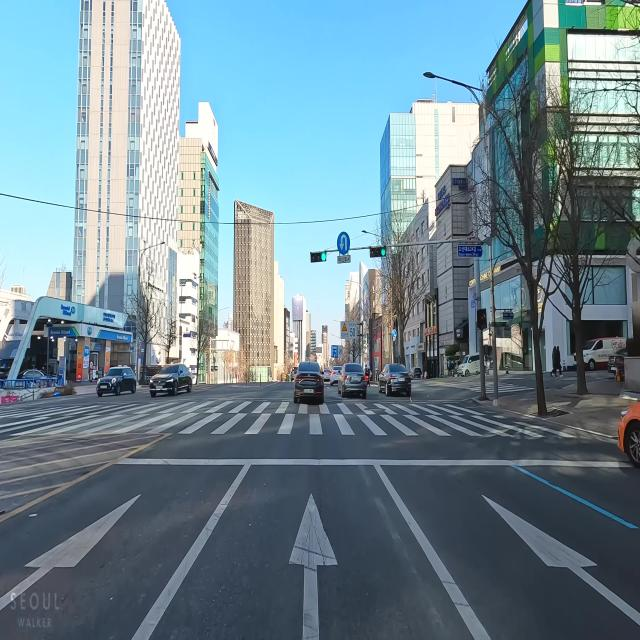Green Light: (321, 252, 326, 262), (382, 248, 386, 258)
